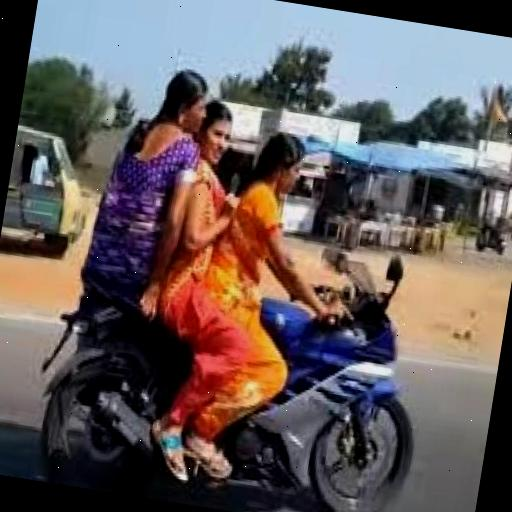no helmet: (248, 118, 320, 223)
triple riding: (28, 51, 469, 512)
